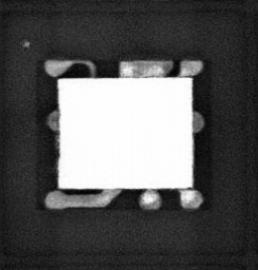DIE_INK: (21, 38, 31, 47)
